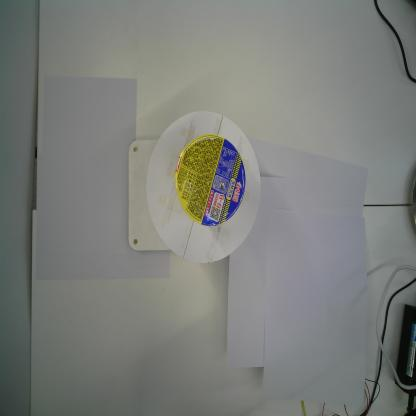Instant Noodles: (174, 134, 248, 228)
